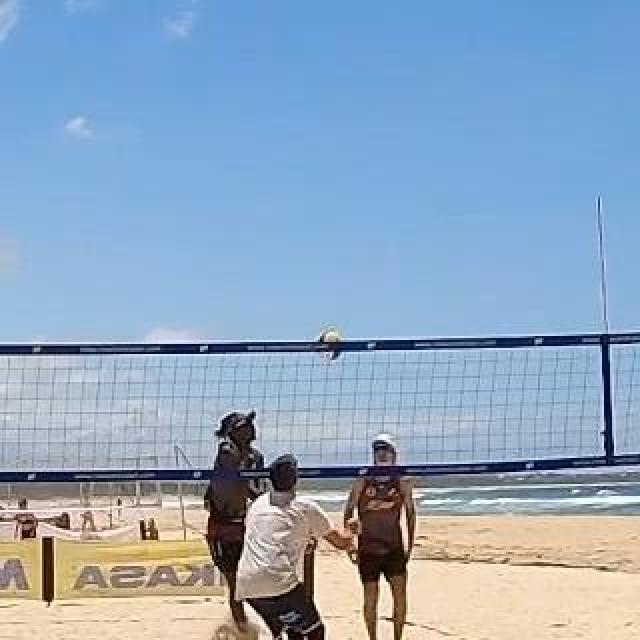volleyball: (314, 331, 342, 361)
